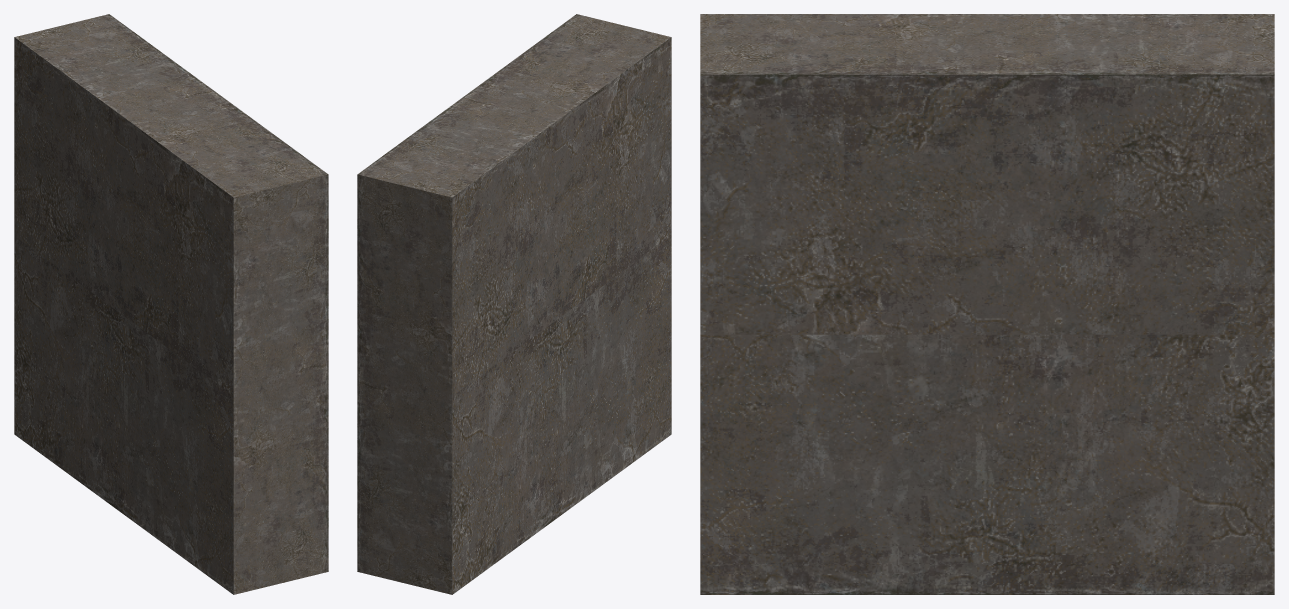
The model's file is Brick2.fbx.
3 renders of one model, left to right at view 1: azimuth 30°, elevation 25°; view 2: azimuth 150°, elevation 25°; view 3: azimuth 270°, elevation 25°, orthographic. The views are drawn at different scales.
Visible parts, largest first — view 1: Trim_Brick_4x4x1; view 2: Trim_Brick_4x4x1; view 3: Trim_Brick_4x4x1.
Part boxes in pixels (x1=…): Trim_Brick_4x4x1: x1=14, y1=14, x2=328, y2=594; Trim_Brick_4x4x1: x1=357, y1=14, x2=671, y2=594; Trim_Brick_4x4x1: x1=700, y1=14, x2=1274, y2=594.
Size of the model in its own units: 100 by 400 by 400.
